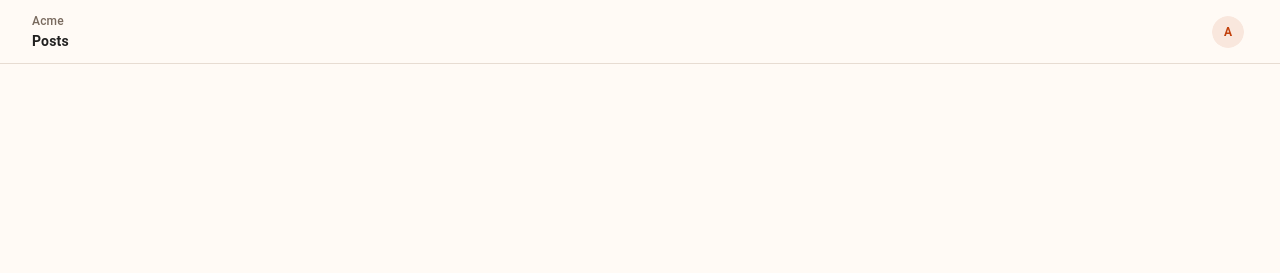
Actual Topbar › respects viewer permissions in account links and create action
What coordinates should you click on to do the following:
click the button named "Open account menu"
I would click on:
 (1228, 32)
Its box is [1208,12,1248,52].
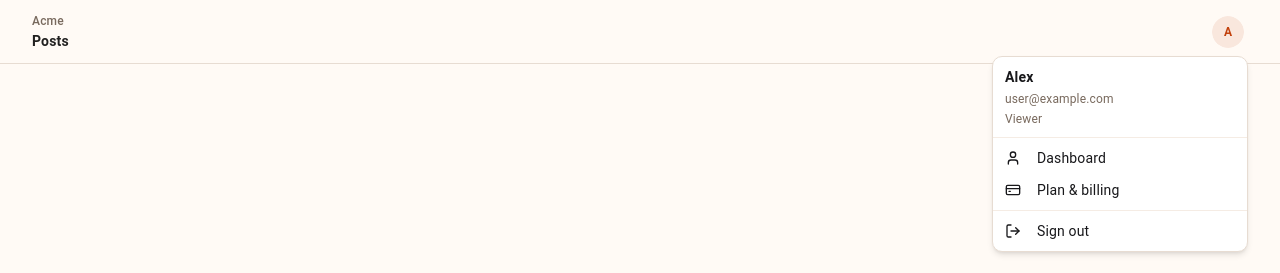
Check: the text "Alex" is shown, box [1005,69,1033,85]
Check: the text "user@example.com" is shown, box [1005,92,1114,106]
Check: the text "Viewer" is shown, box [1005,112,1042,126]
